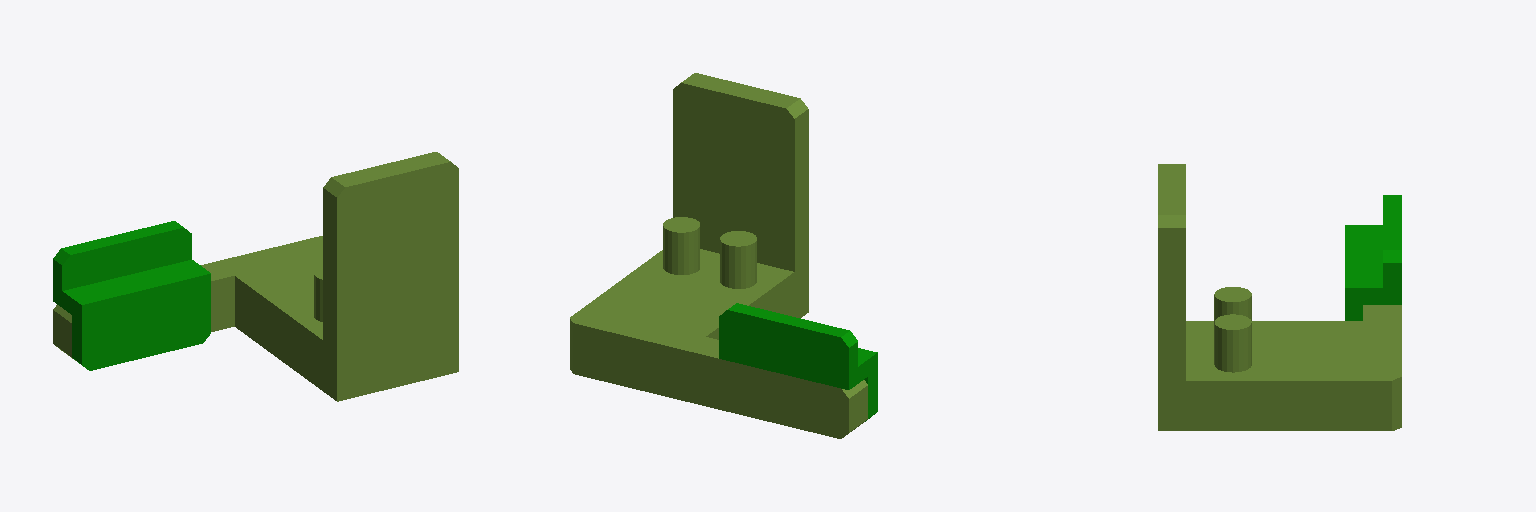
File: chuck_s_L.obj
3 renders of one model, left to right at view 1: azimuth 30°, elevation 25°; view 2: azimuth 150°, elevation 25°; view 3: azimuth 270°, elevation 25°, orthographic.
Visible parts, largest first — view 1: chuck_s_L.001; view 2: chuck_s_L.001; view 3: chuck_s_L.001.
Boxes of the visible parts, <box> form: chuck_s_L.001: <box>53,152,458,401</box>; chuck_s_L.001: <box>570,73,877,438</box>; chuck_s_L.001: <box>1158,164,1401,430</box>.
Size of the model in its own units: 0.35 by 0.25 by 0.26.